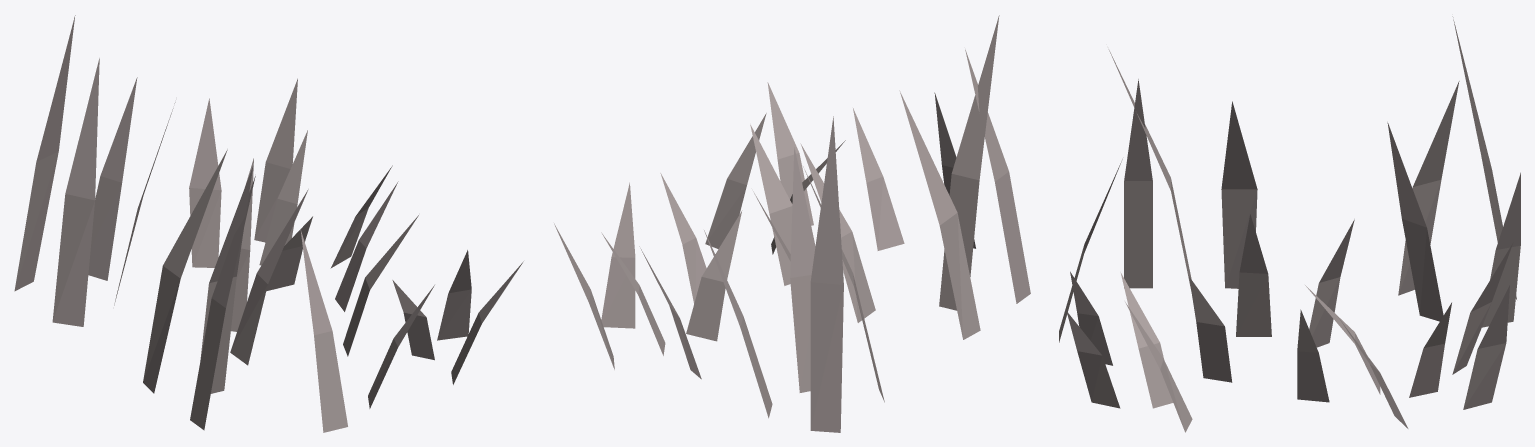
3 renders of one model, left to right at view 1: azimuth 30°, elevation 25°; view 2: azimuth 150°, elevation 25°; view 3: azimuth 270°, elevation 25°, orthographic.
Bounding box in the file's own units: 96 × 89 × 128.
Materials: 1 (1 with a texture image).
